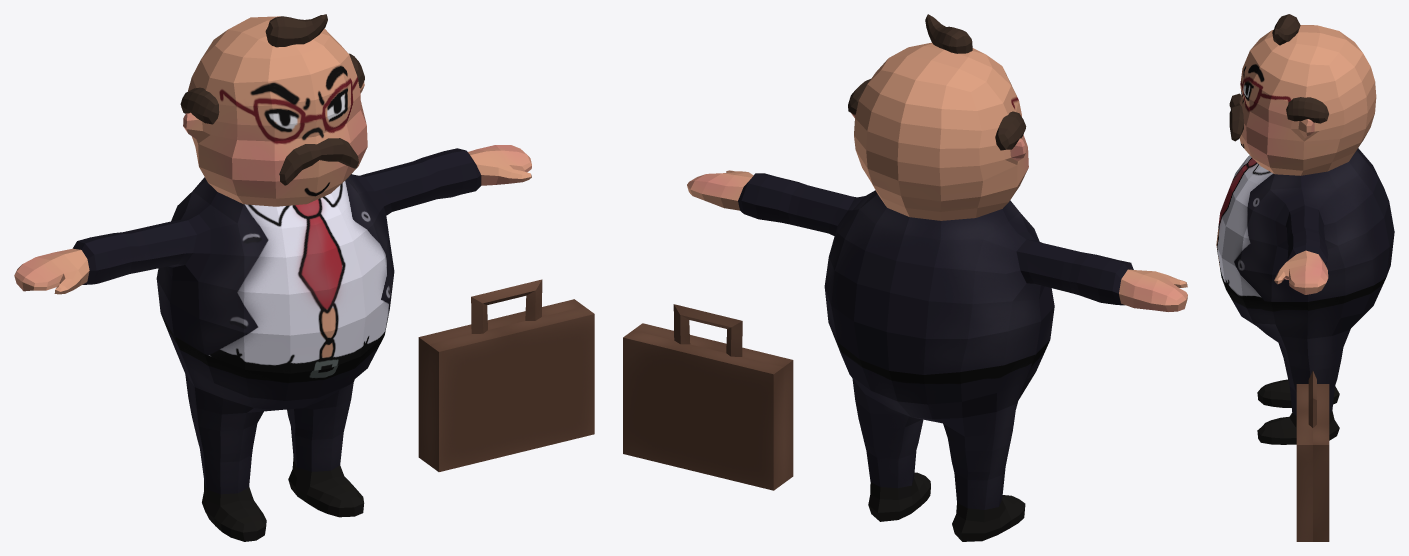
The model's file is Jefe.fbx.
The picture shows the model from 3 angles, left to right: view 1: azimuth 30°, elevation 25°; view 2: azimuth 150°, elevation 25°; view 3: azimuth 270°, elevation 25°; orthographic projection. The views are drawn at different scales.
Parts seen in each view (by area): view 1: Boss_GEO, Brief_GEO, Mustache_GEO, Copete_GEO, PeloLado_GEO; view 2: Boss_GEO, Brief_GEO, PeloLado_GEO, Copete_GEO; view 3: Boss_GEO, Brief_GEO, PeloLado_GEO, Copete_GEO, Mustache_GEO.
Boxes of the visible parts, x1,y1,x2,y2 form: Boss_GEO: (14, 16, 531, 541); Brief_GEO: (418, 279, 594, 471); Mustache_GEO: (279, 138, 358, 185); Copete_GEO: (265, 14, 327, 47); PeloLado_GEO: (180, 53, 364, 124); Boss_GEO: (687, 42, 1187, 541); Brief_GEO: (623, 304, 793, 490); PeloLado_GEO: (848, 79, 1026, 150); Copete_GEO: (925, 14, 972, 53); Boss_GEO: (1216, 25, 1394, 444); Brief_GEO: (1296, 370, 1329, 541); PeloLado_GEO: (1286, 97, 1328, 123); Copete_GEO: (1272, 14, 1300, 45); Mustache_GEO: (1229, 93, 1243, 141).
Size of the model in its own units: 210 by 177 by 71.01.
